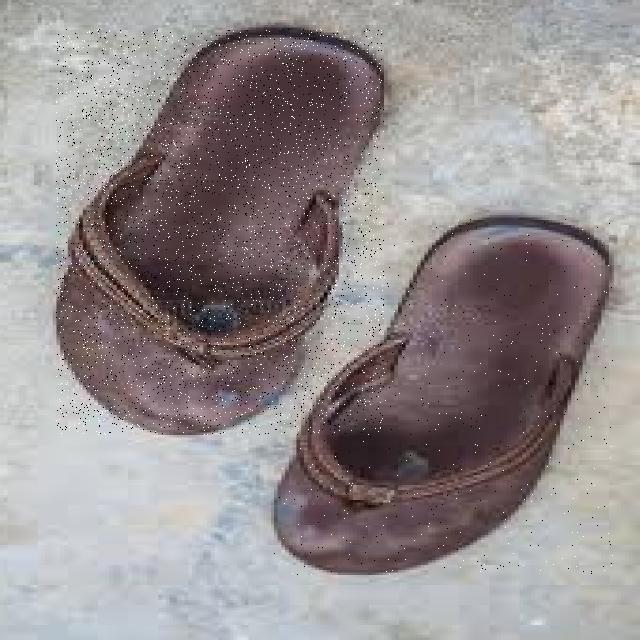other: (57, 29, 384, 435), (275, 219, 613, 575)
